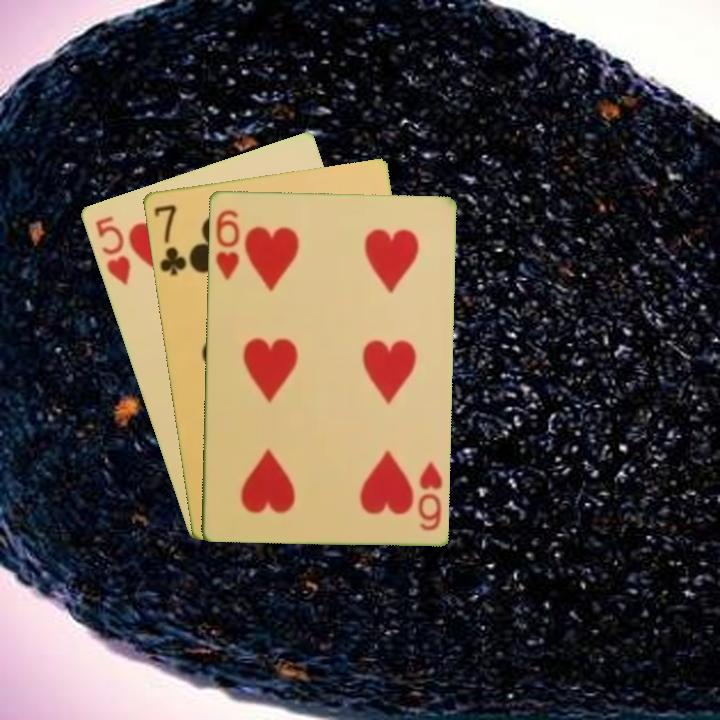5h: (91, 212, 133, 288)
6h: (211, 206, 242, 282), (414, 458, 445, 533)
7c: (150, 200, 189, 278)
